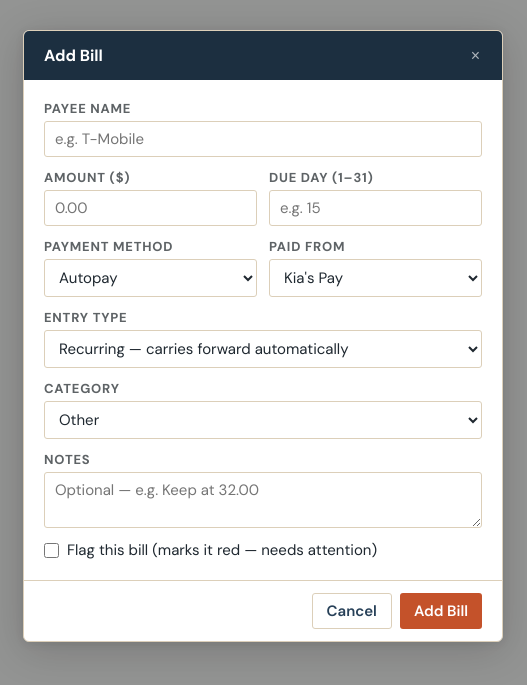
BillForm › validation › shows error when due day is 0
Type "T-Mobile" into the field labelled "Payee Name" at (263, 139), box [44,121,482,157]
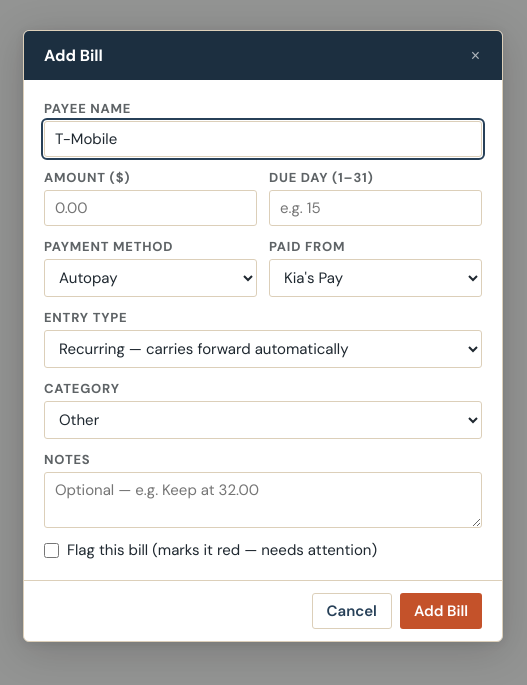
Type "50.00" into the field labelled "Amount ($)" at (150, 208), box [44,190,257,226]
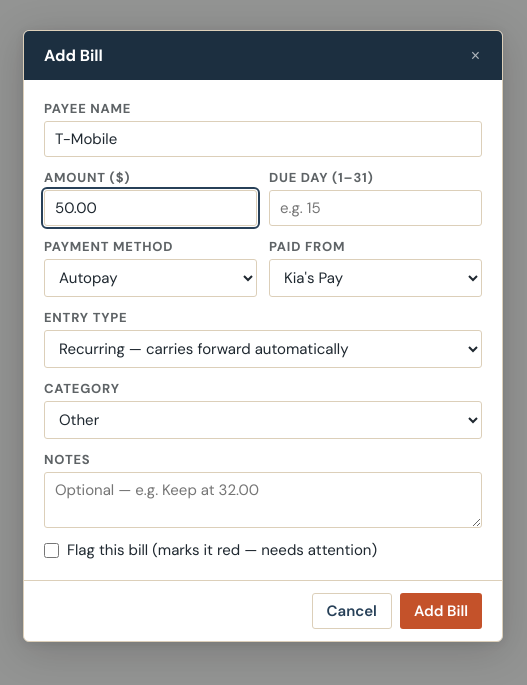
Type "0" into the field labelled "Due Day (1–31)" at (376, 208), box [269,190,482,226]
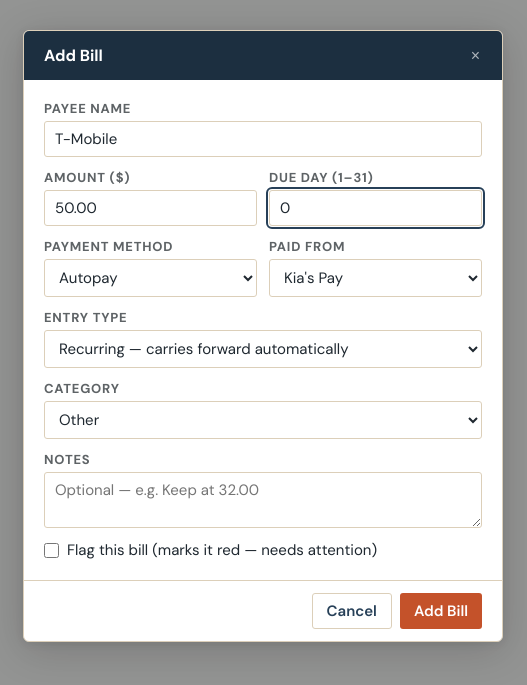
Click the button "Add Bill" at (441, 611), box [400,593,482,629]
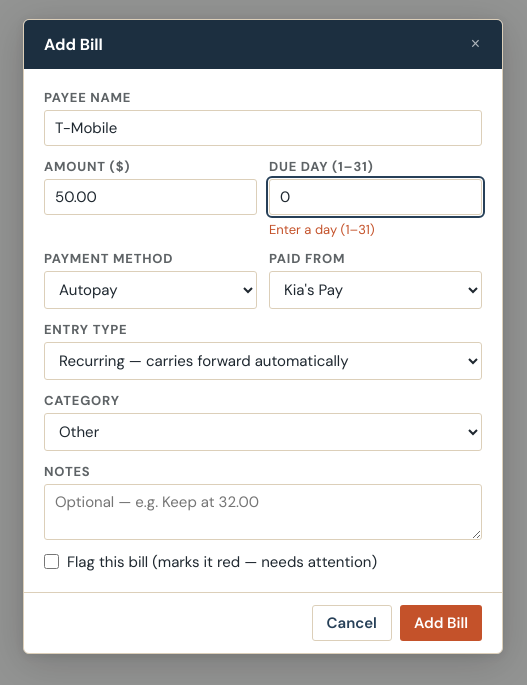
Expected: the text "Enter a day (1–31)" is shown, [269,220,375,238]
